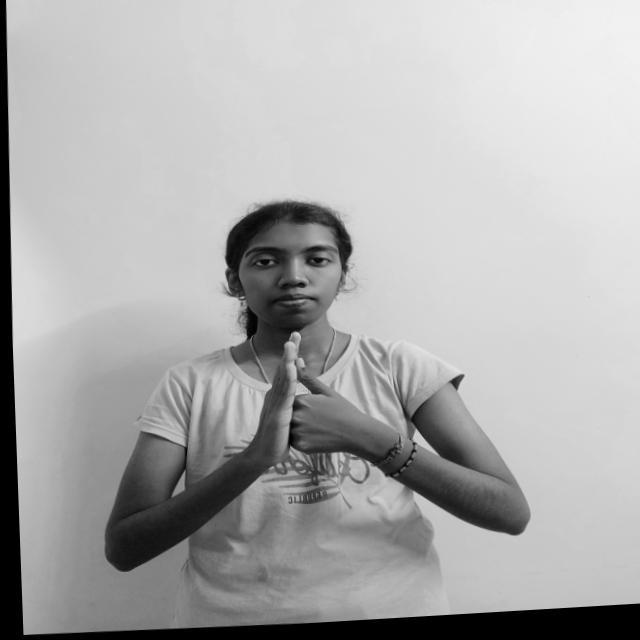Well Done: (233, 321, 397, 478)
